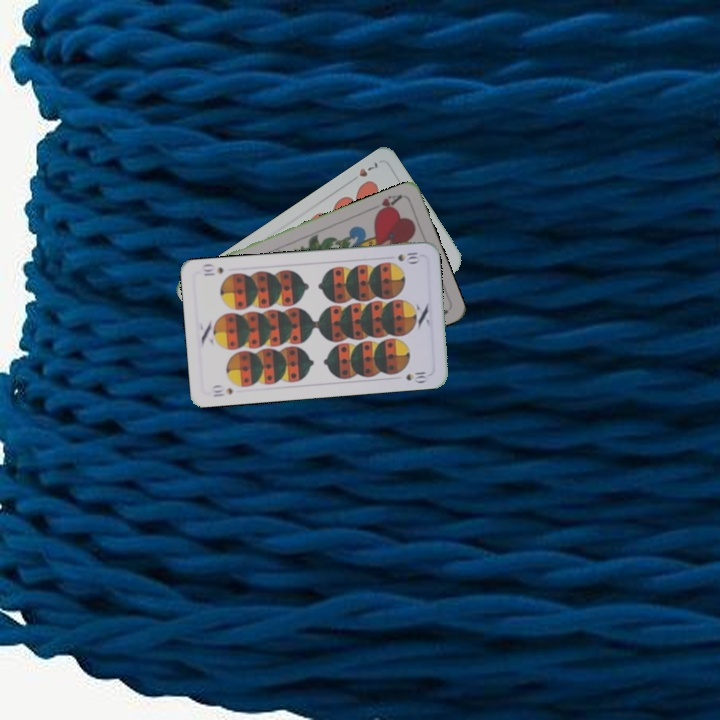H7: (346, 158, 382, 185)
HA: (366, 190, 405, 218)
S10: (394, 248, 421, 265), (209, 384, 235, 400)
